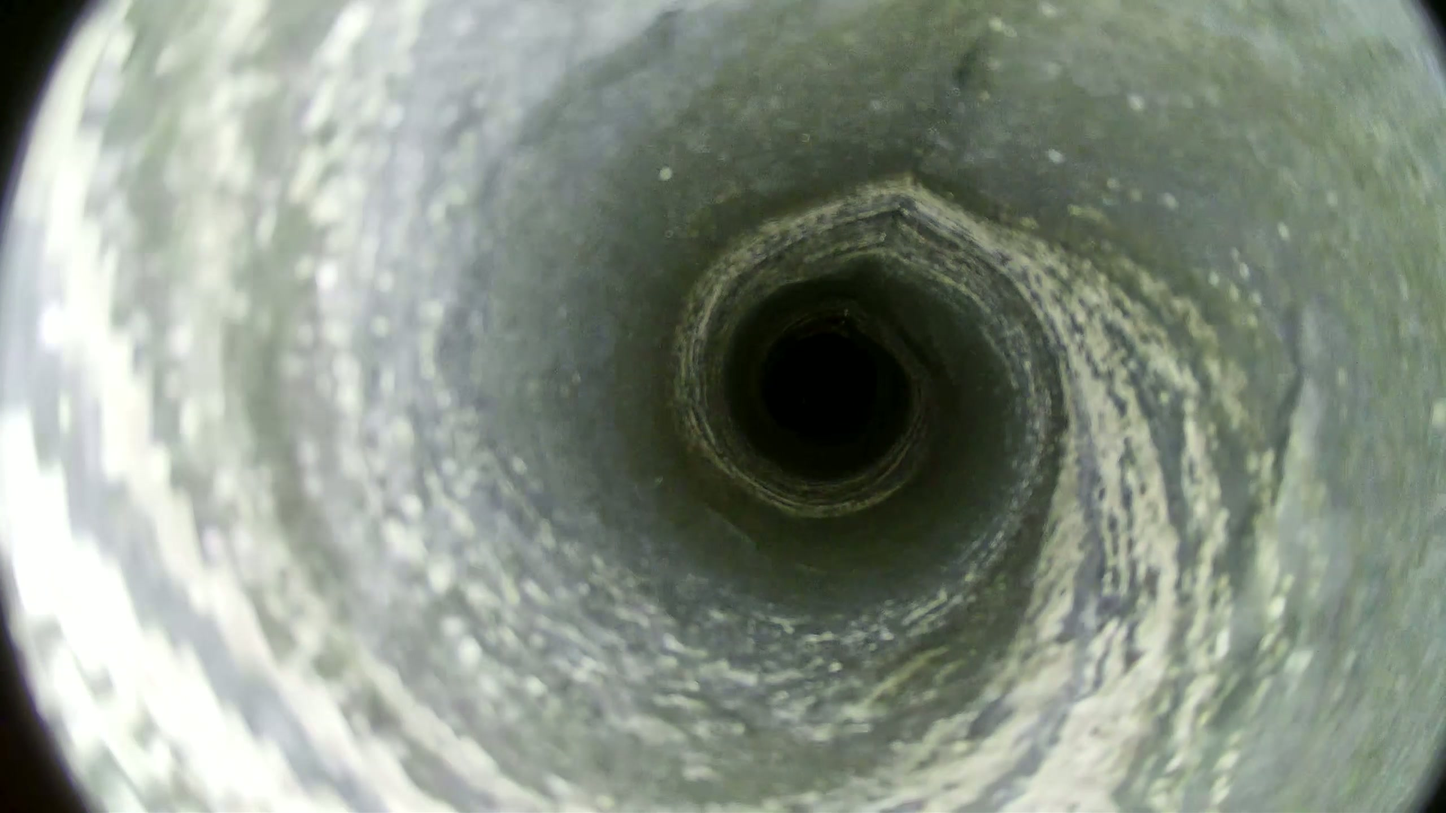hole: (768, 336, 877, 441)
